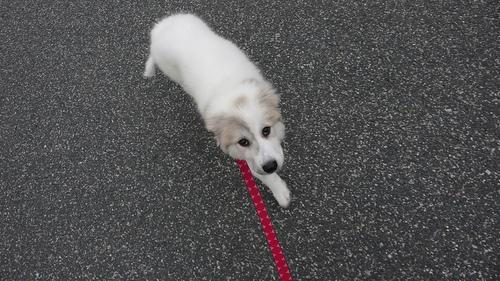Great_Pyrenees: (143, 12, 290, 208)
